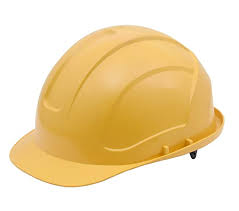Helmet: (24, 30, 217, 180)
